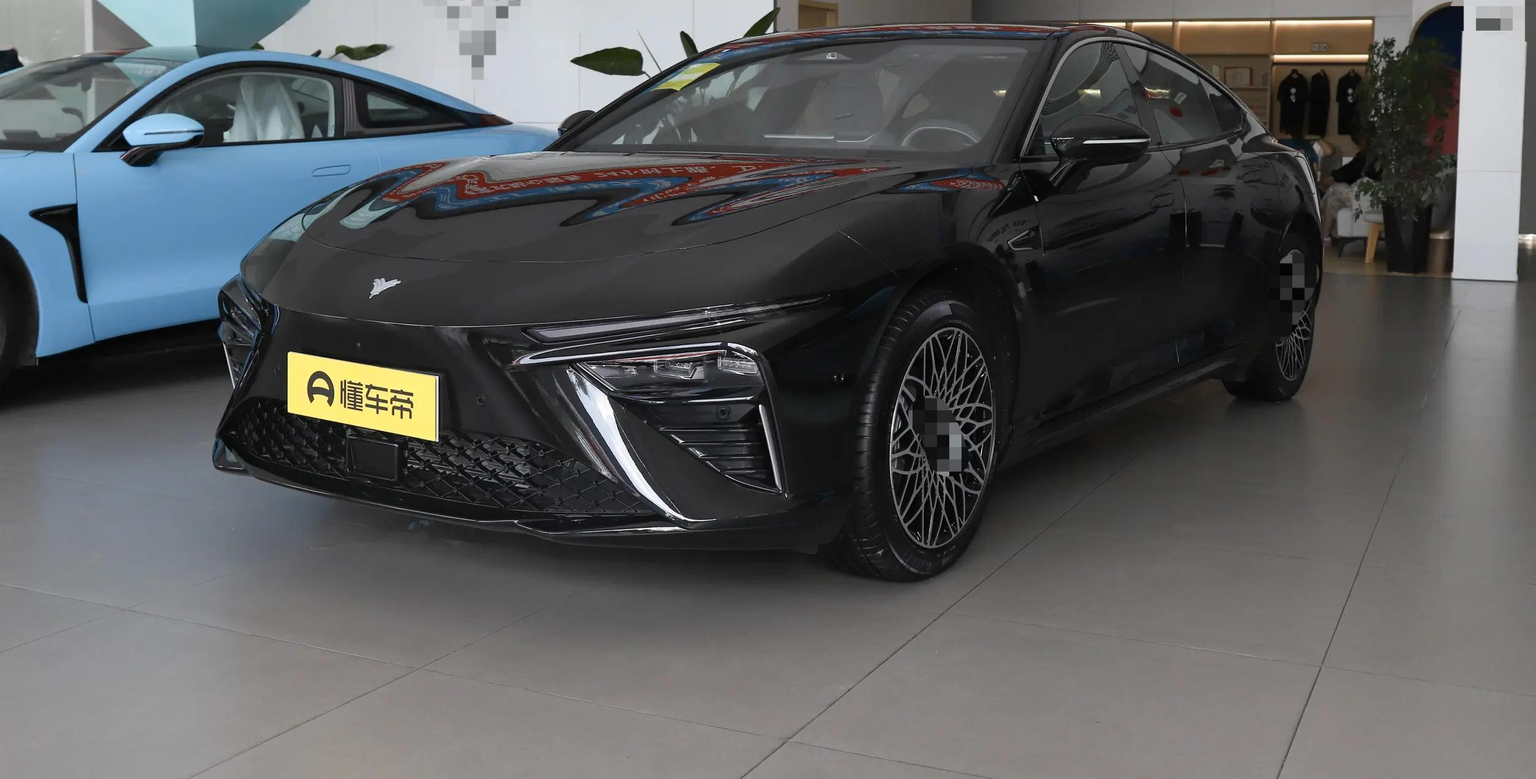NETA: (367, 277, 402, 299)
